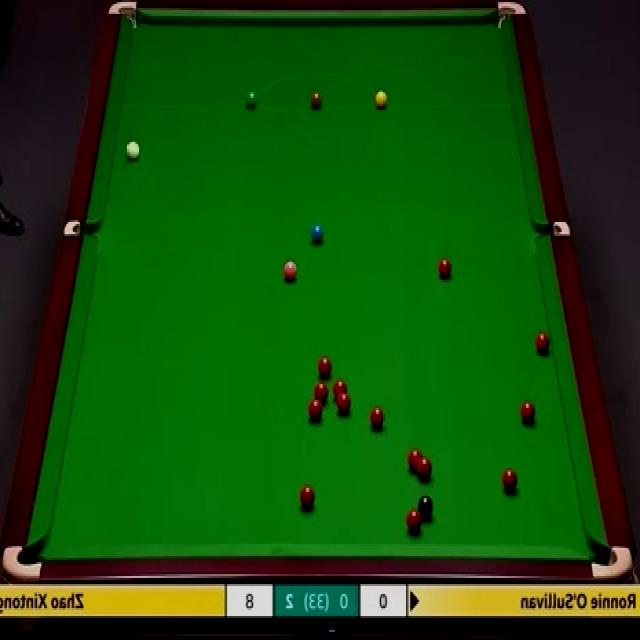pocket: (0, 540, 43, 583), (588, 548, 635, 584), (110, 2, 138, 30), (498, 2, 526, 29), (535, 218, 569, 240), (62, 220, 99, 238)
